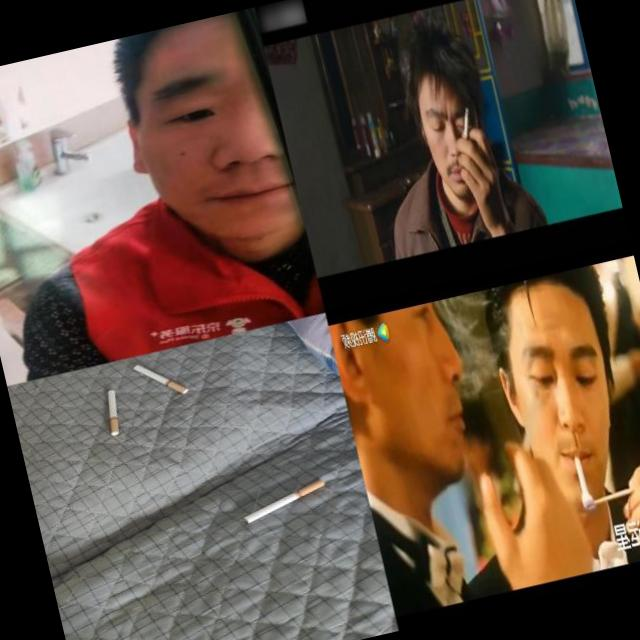smoke: (238, 478, 330, 525), (132, 355, 189, 404), (100, 388, 125, 436), (455, 105, 476, 142), (572, 454, 589, 496)
